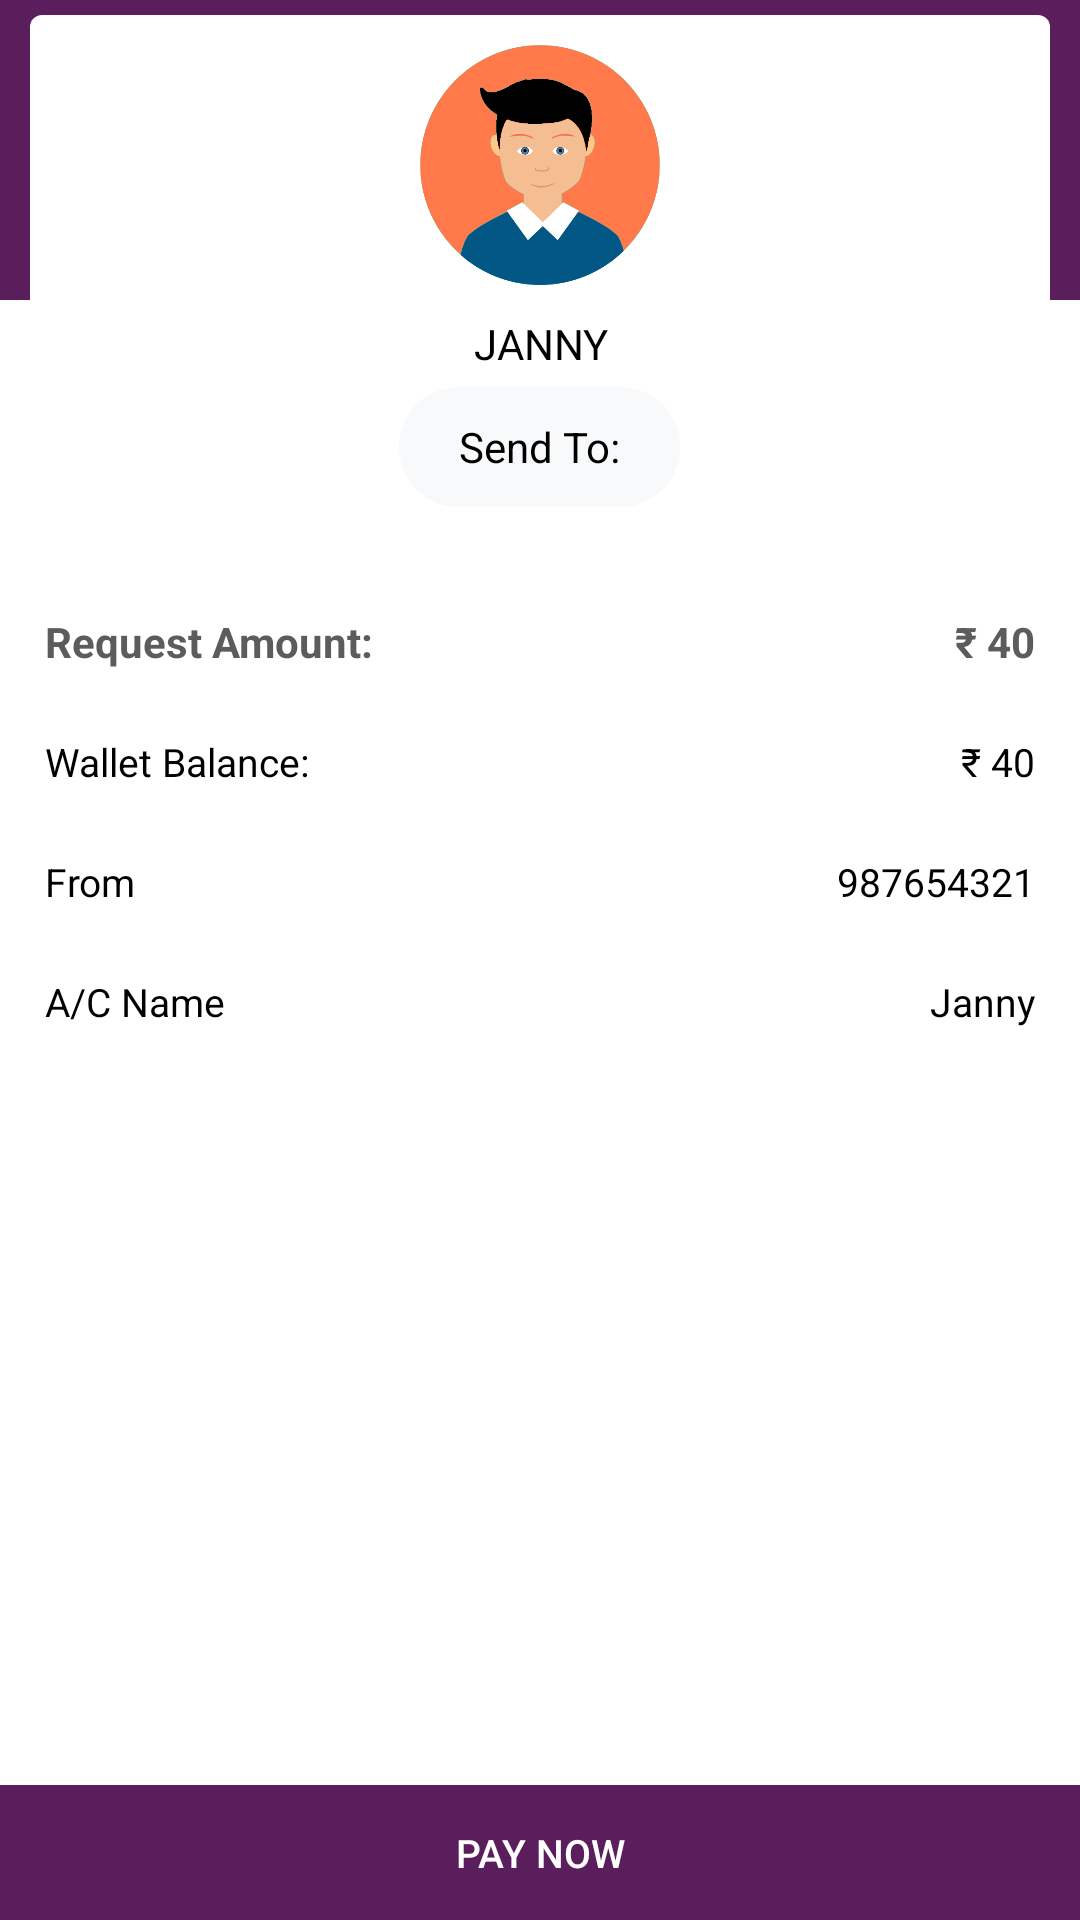

Where icons sit on this 1080*1920 app screen, as (x1, y1, x2, y2):
avtar: (420, 45, 660, 285)
